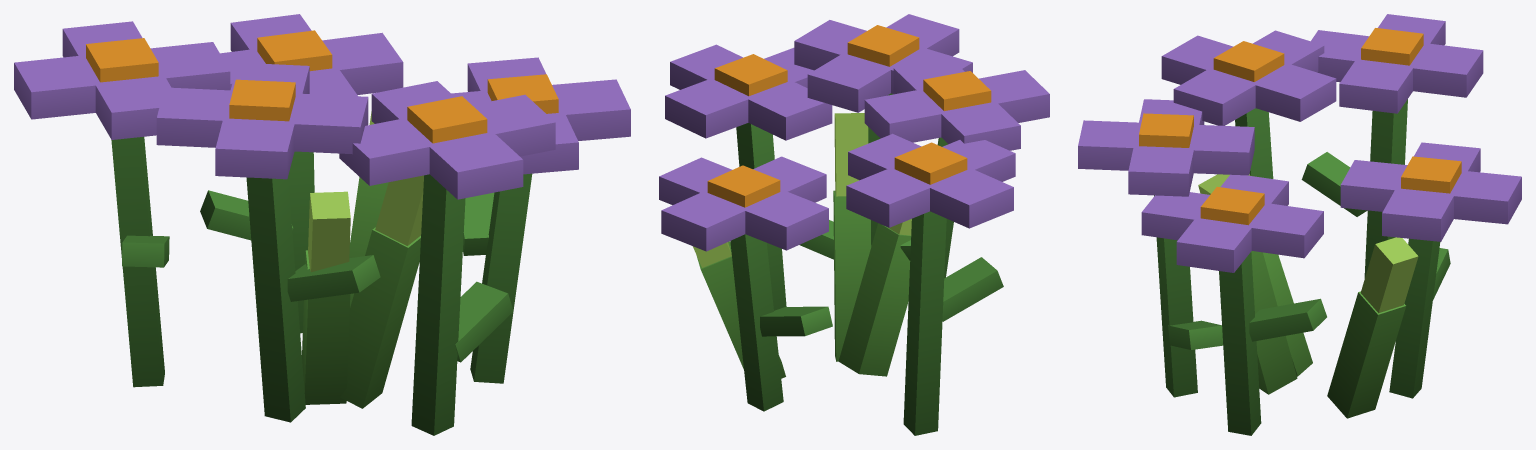
Rendered from B06_flowers_violet.glb.
3 views of the same model, side by side, from view 1: azimuth 30°, elevation 25°; view 2: azimuth 150°, elevation 25°; view 3: azimuth 270°, elevation 25° (orthographic). The views are drawn at different scales.
Visible parts, largest first — view 1: B06_flowers_violet; view 2: B06_flowers_violet; view 3: B06_flowers_violet.
Boxes of the visible parts, x1,y1,x2,y2 form: B06_flowers_violet: (14, 14, 630, 435); B06_flowers_violet: (659, 14, 1049, 435); B06_flowers_violet: (1078, 14, 1521, 435).
Bounding box in the file's own units: 0.9457 × 0.6258 × 0.8781.
